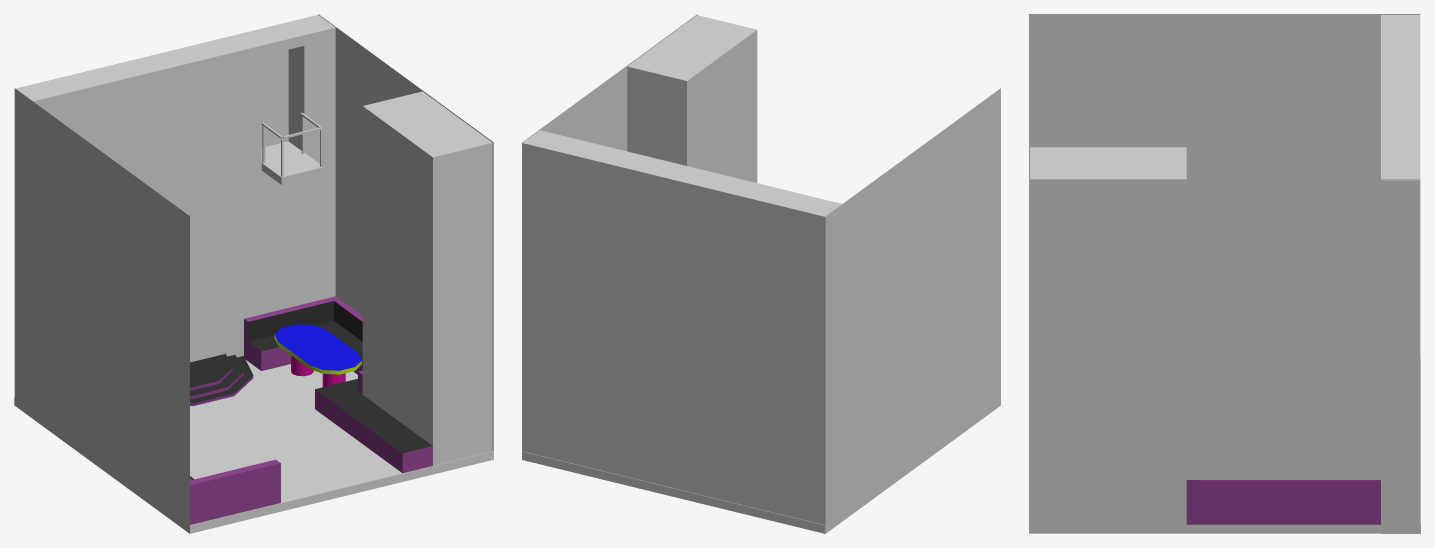
Rendered from Bar bouf.FBX.
3 renders of one model, left to right at view 1: azimuth 30°, elevation 25°; view 2: azimuth 150°, elevation 25°; view 3: azimuth 270°, elevation 25°, orthographic. The views are drawn at different scales.
Visible parts, largest first — view 1: mur balconet, bar bouf, rectangle bloc, sol bar boof, sofa007, mur1 bar bouf, table double unity003, marche unity002, piece carre006, rambardes balcon bar; view 2: mur balconet, bar bouf, rectangle bloc, mur1 bar bouf, sol bar boof; view 3: mur1 bar bouf, bar bouf, mur balconet, sofa007, rectangle bloc.
Boxes of the visible parts, x1,y1,x2,y2 form: mur balconet: (16,15,335,362); bar bouf: (14,88,189,533); rectangle bloc: (362,91,492,465); sol bar boof: (14,360,493,533); sofa007: (190,296,432,524); mur1 bar bouf: (318,14,493,459); table double unity003: (274,324,361,386); marche unity002: (190,354,253,405); piece carre006: (261,152,324,184); rambardes balcon bar: (261,112,322,176); mur balconet: (522,130,841,525); bar bouf: (825,88,1000,533); rectangle bloc: (627,15,757,182); mur1 bar bouf: (522,14,697,151); sol bar boof: (522,451,825,533); mur1 bar bouf: (1029,179,1420,533); bar bouf: (1029,14,1420,179); mur balconet: (1381,15,1420,533); sofa007: (1186,480,1380,524); rectangle bloc: (1030,147,1186,179).
Bounding box in the file's own units: 601 × 600 × 601.
